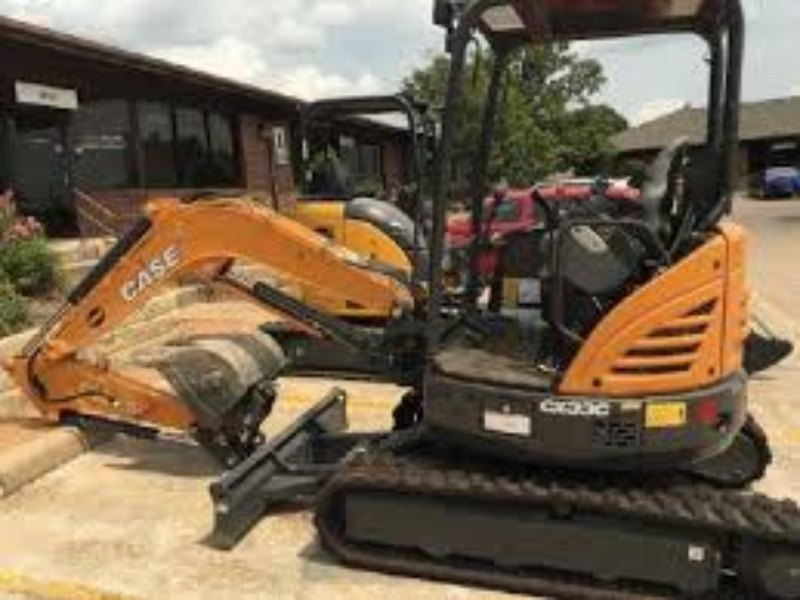wajueji: (44, 10, 799, 597)
